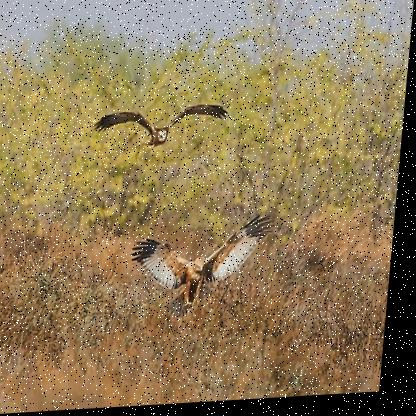Burung: (133, 216, 284, 314), (96, 100, 233, 146)
